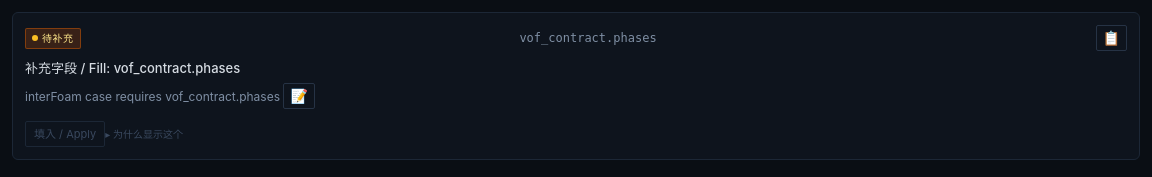
Test: DynamicFramePanel › renders 已复制 aria-live toast after copy click + absent before click
Click the button with test id "dynamic-frame-copy-field-path" at {"x": 1111, "y": 38}, box [1096,25,1127,51]
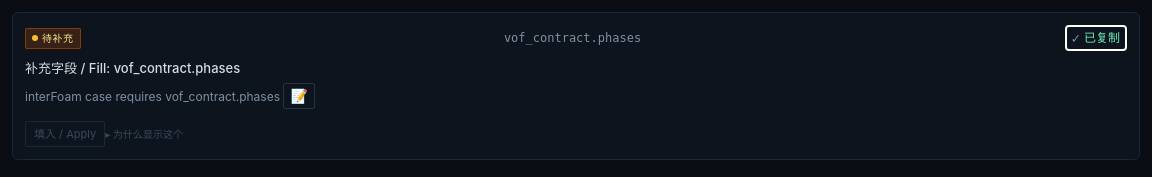
expect the message "已复制" is shown: met, box [1084,30,1120,46]
